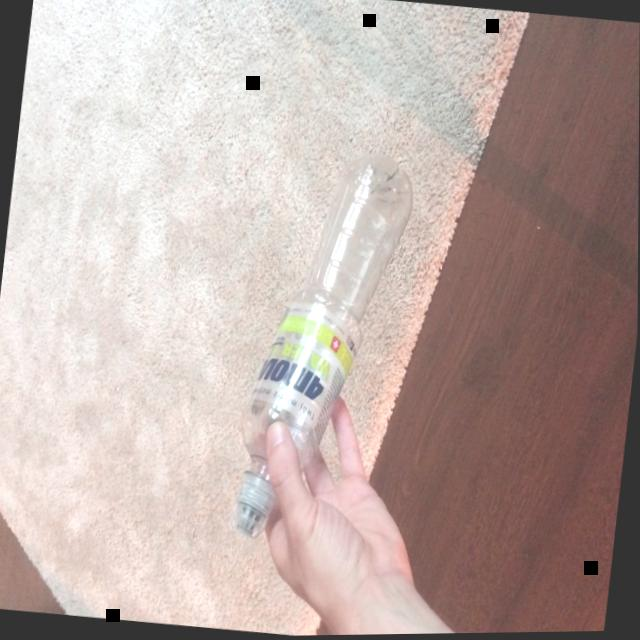Clear plastic bottle: (231, 153, 412, 540)
